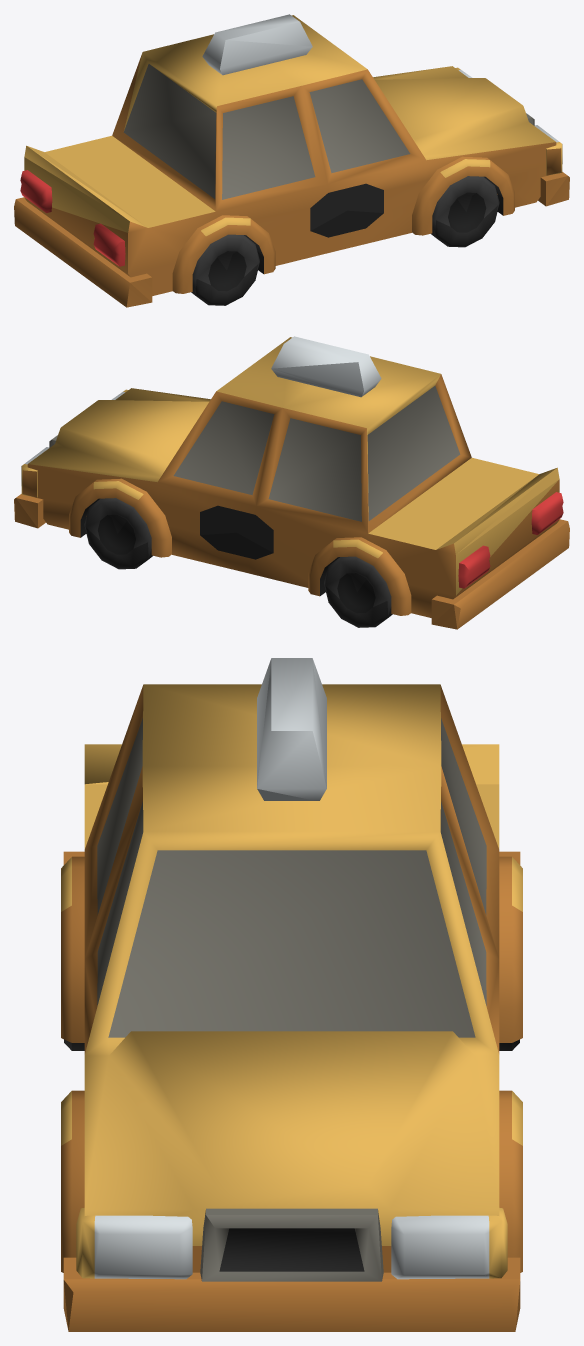
Rendered from taxi.glb.
3 views of the same model, one above another, from view 1: azimuth 30°, elevation 25°; view 2: azimuth 150°, elevation 25°; view 3: azimuth 270°, elevation 25° (orthographic). The views are drawn at different scales.
Parts seen in each view (by area): view 1: taxi; view 2: taxi; view 3: taxi.
Boxes of the visible parts, x1,y1,x2,y2 form: taxi: [14, 14, 569, 307]; taxi: [14, 336, 569, 629]; taxi: [61, 658, 522, 1331].
Bounding box in the file's own units: 3.67 × 1.7 × 1.64.
